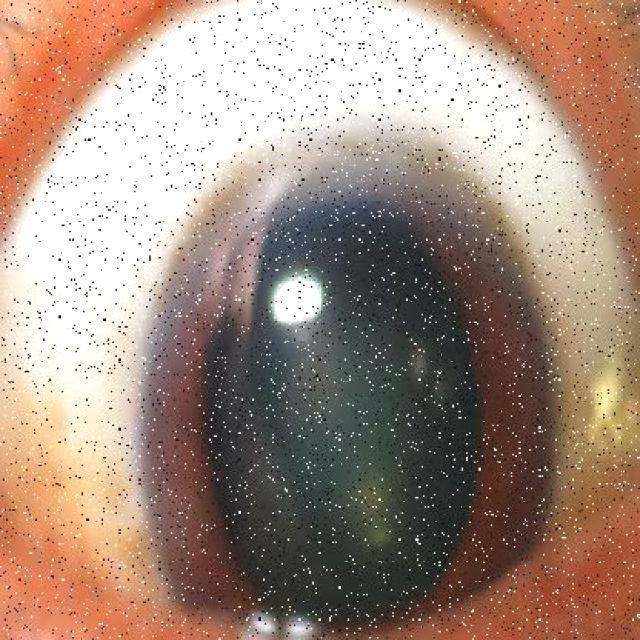Cataract: (162, 142, 543, 624)
